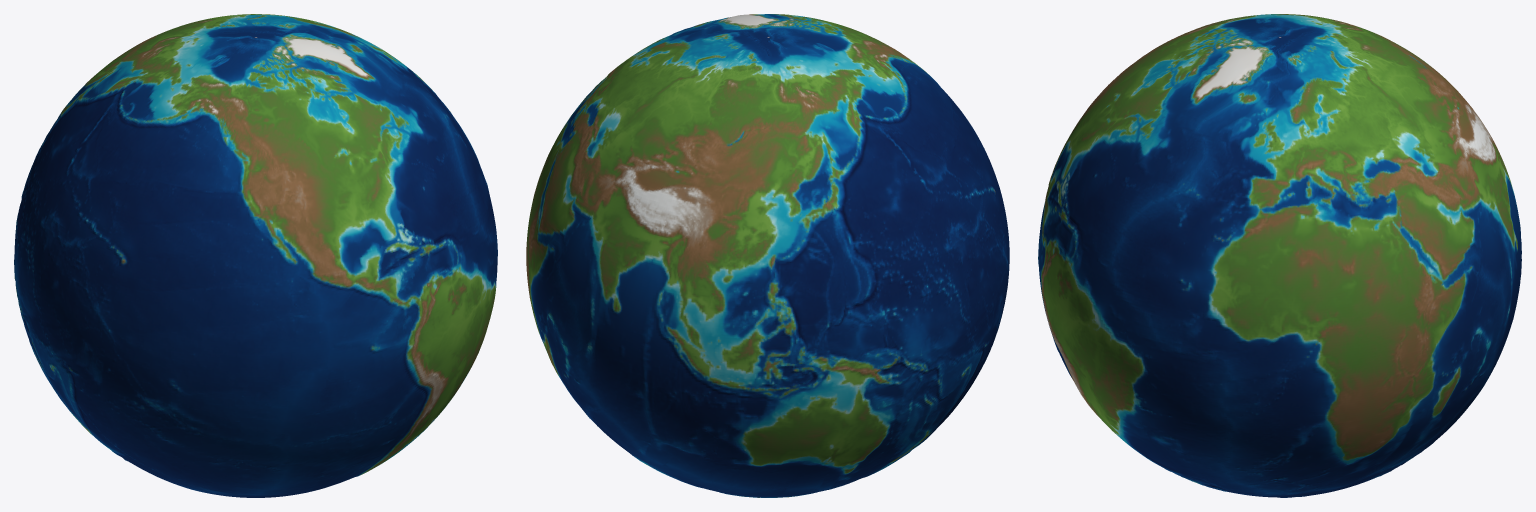
File: Earth_OddOrb_MKI.glb
3 views of the same model, side by side, from view 1: azimuth 30°, elevation 25°; view 2: azimuth 150°, elevation 25°; view 3: azimuth 270°, elevation 25° (orthographic).
Parts seen in each view (by area): view 1: Earth_OddOrb_MKI; view 2: Earth_OddOrb_MKI; view 3: Earth_OddOrb_MKI.
Boxes of the visible parts, x1,y1,x2,y2 form: Earth_OddOrb_MKI: (14,14,497,497); Earth_OddOrb_MKI: (526,14,1009,497); Earth_OddOrb_MKI: (1038,14,1521,497).
Size of the model in its own units: 1.99 by 2 by 2.
Materials: 1 (1 with a texture image).
